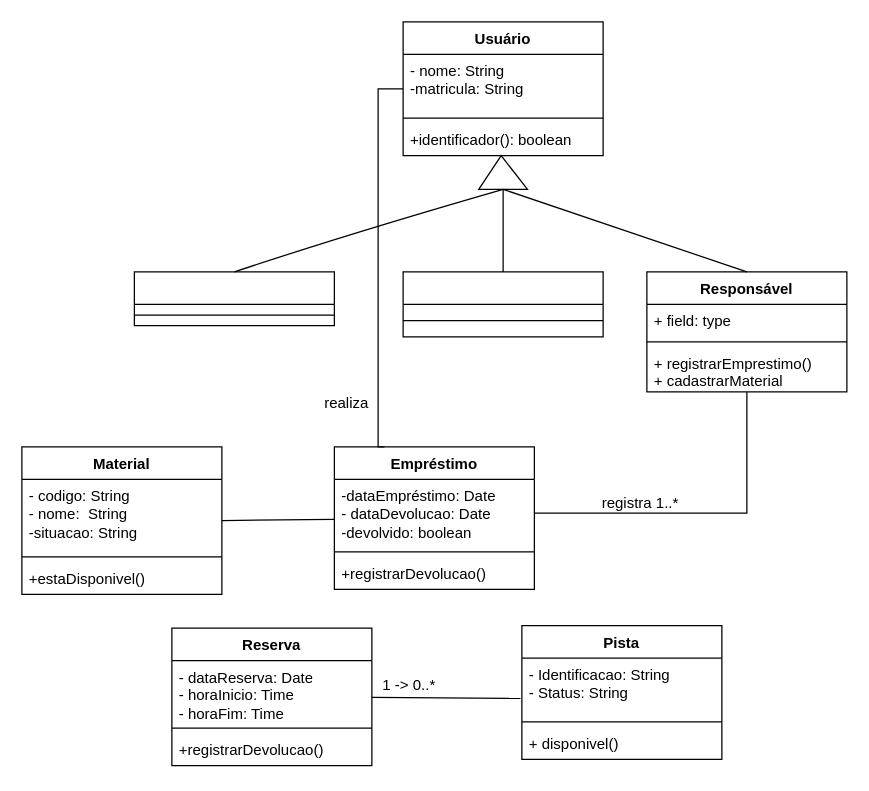
This 869x791 diagram has some shape labels left out. The shapes that lost their labels are listed below. From the top down, each one's centre as x and y in pixels, then its label:
point 233,298: Professor
point 502,304: Atleta
